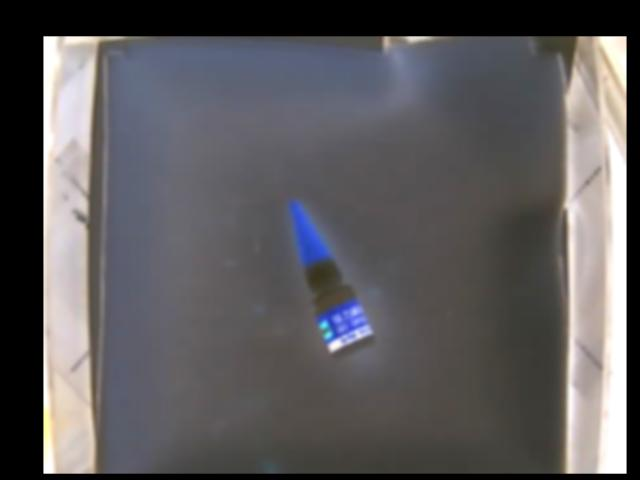Bottle: (284, 198, 377, 360)
